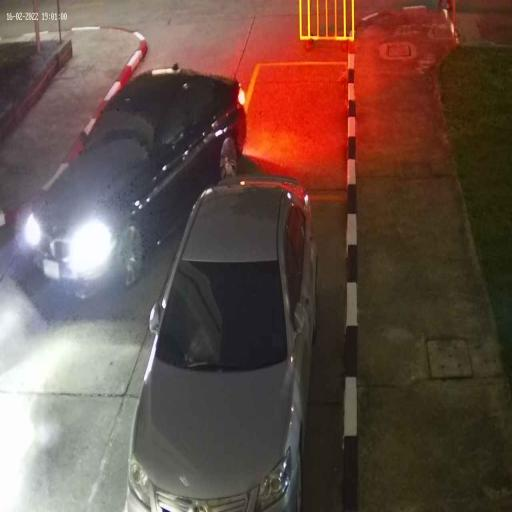car: (122, 172, 321, 512), (24, 67, 248, 299)
